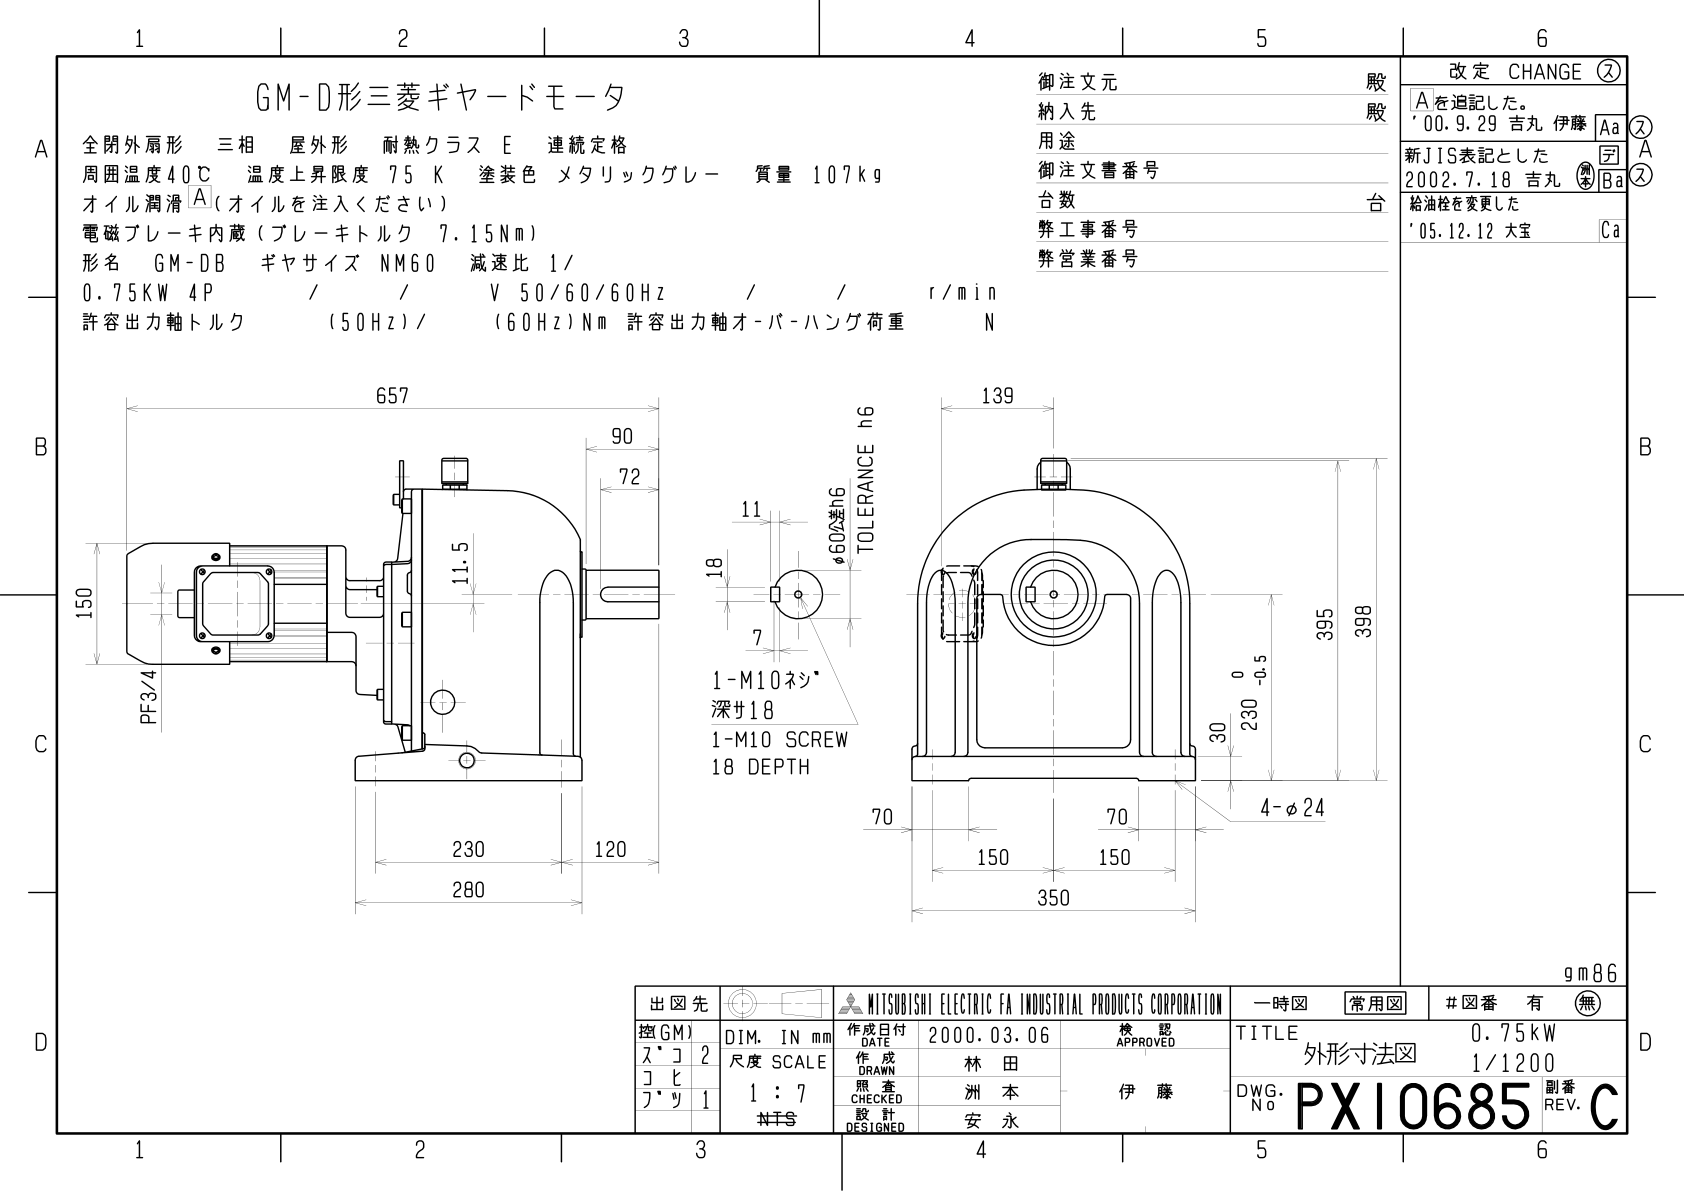GM_D_屋外＿三相_脚: (61, 354, 1389, 949)
